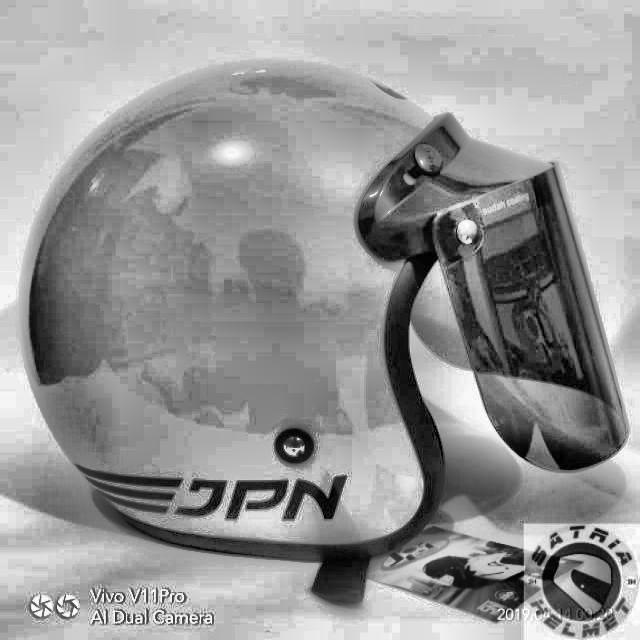Helmet: (12, 55, 637, 587)
